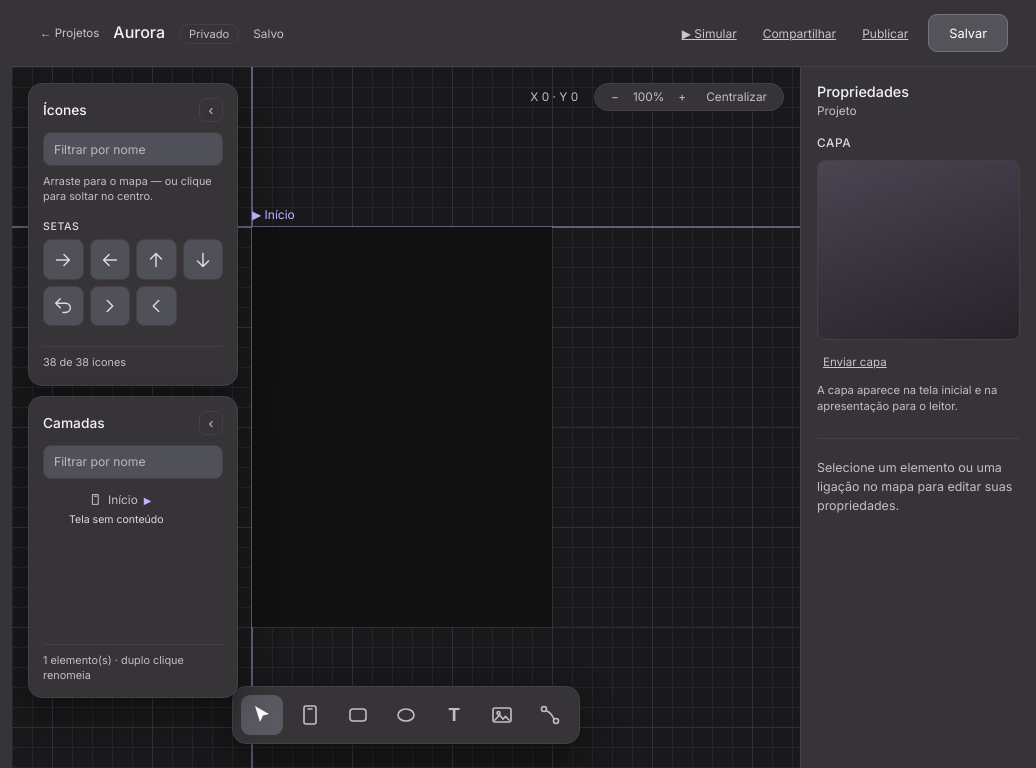
Test case: canvas: dono, colaborador e visualização › salvar manda a versão aberta; com 409, pergunta e pode sobrescrever
Click the button "Salvar".
click(968, 33)  # box [928,14,1008,52]
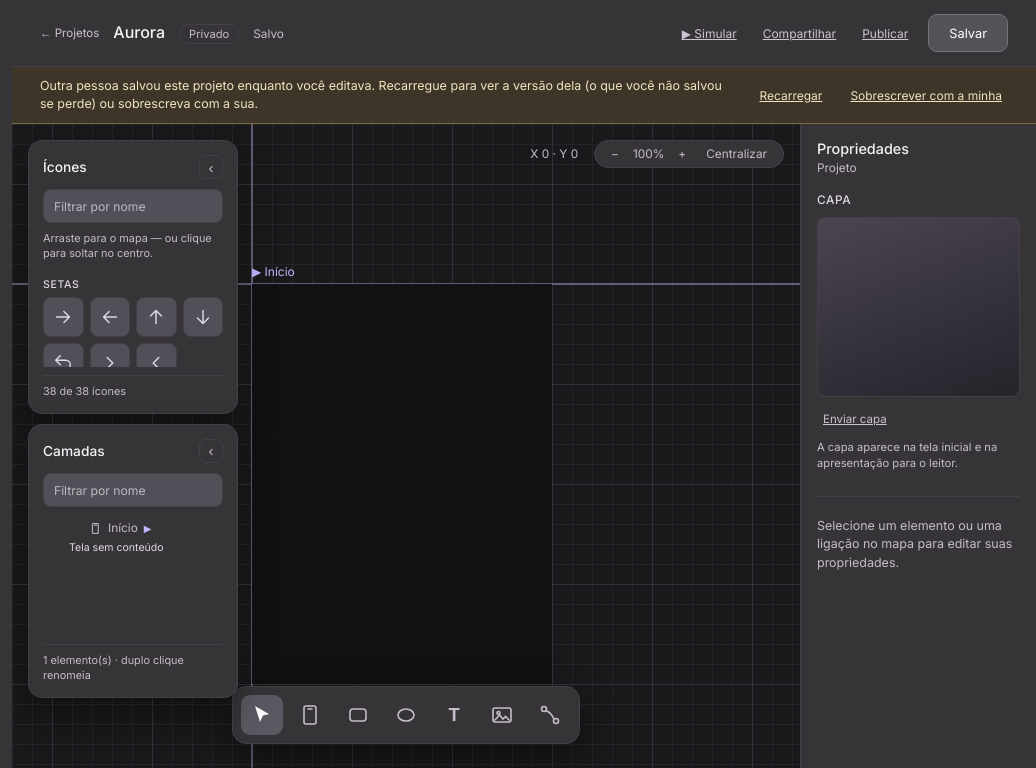
Expected: the message shows "Outra pessoa salvou este projeto", [40,78,722,111]
Click the button "Sobrescrever com a minha".
click(926, 95)  # box [844,87,1008,104]
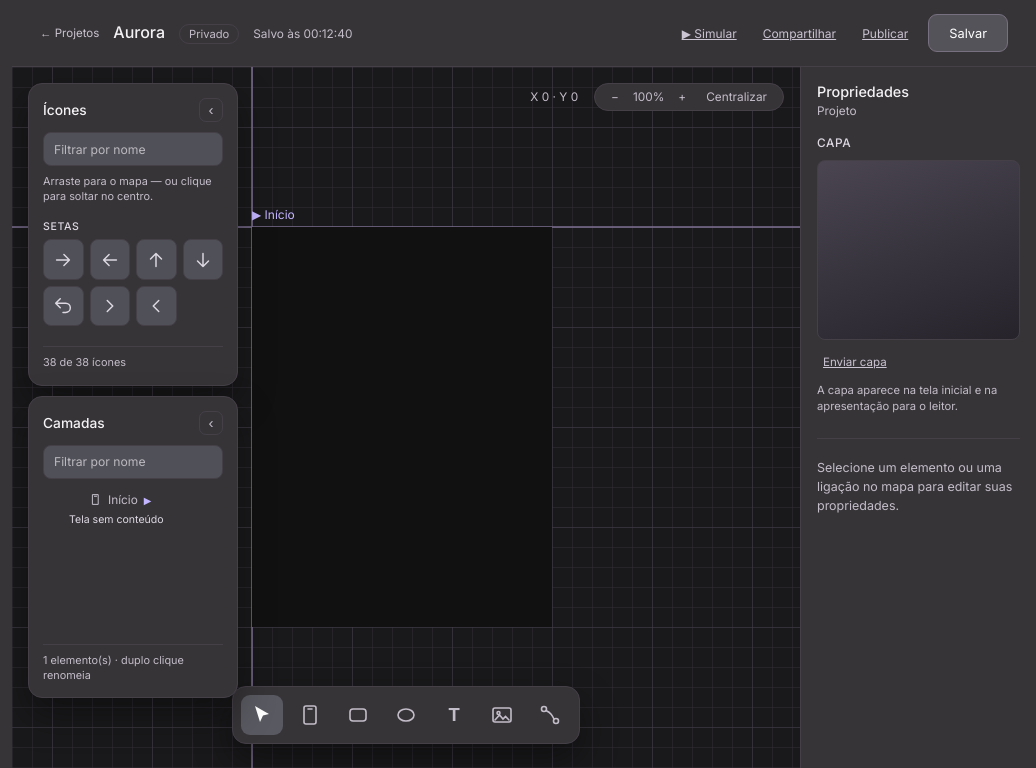
Expected: the message is gone
